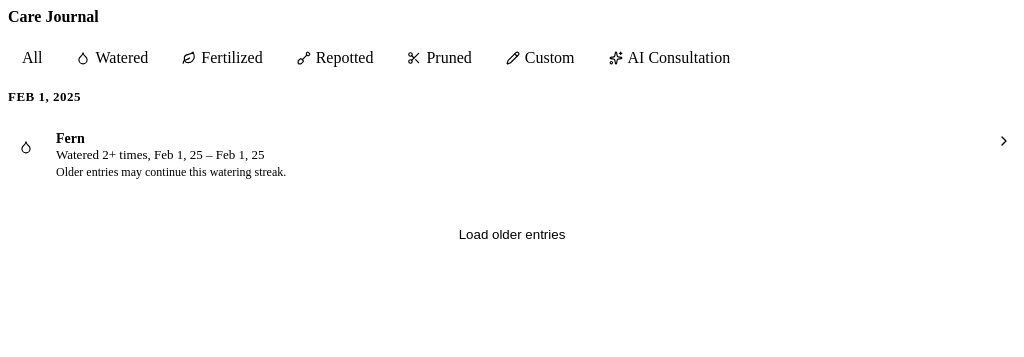
Test: care journal history loading › keeps an expanded partial group open and appends its older members
Expected: the element with class "log-group-summary" is shown, [8,119,1016,190]
Expected: the button "Load older entries" is shown, [445,214,579,254]
Click the button with class "log-group-toggle" at coordinates (1004, 141), box [992,129,1016,153]
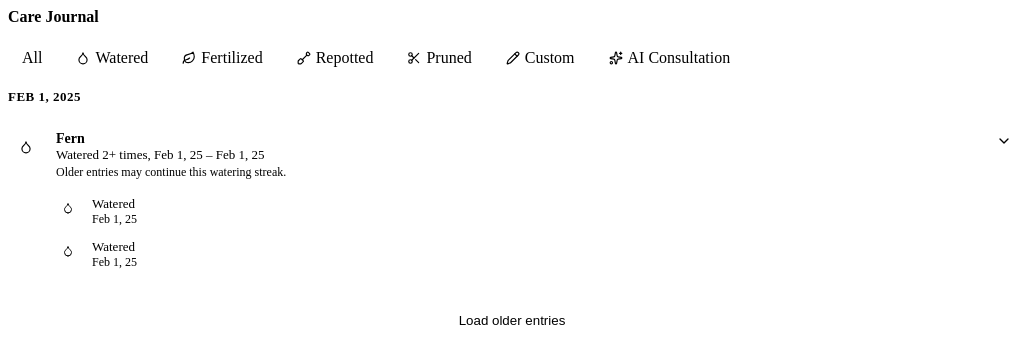
Now the number of elements with class "log-entry-nested" is 2, box [62,196,137,226]; [62,239,137,269]
Click the button "Load older entries" at coordinates (512, 320), box [445,300,579,340]
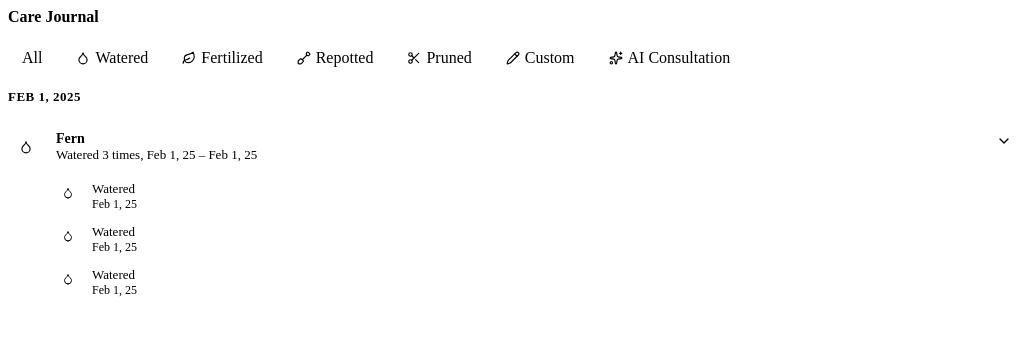
Now the number of elements with class "log-entry-nested" is 3, box [62,181,137,211]; [62,224,137,254]; [62,267,137,297]
